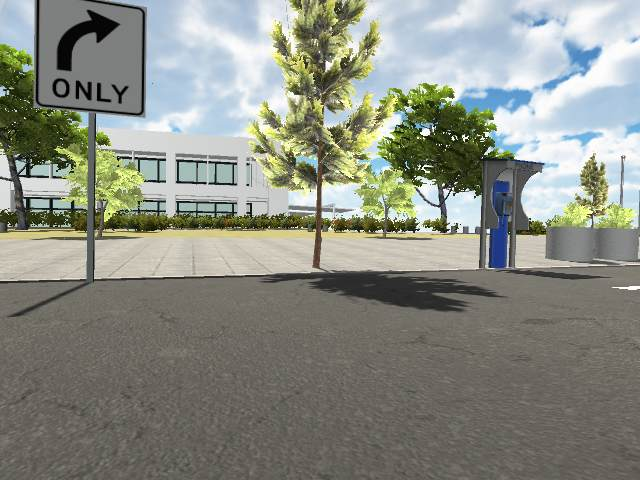arrow_right: (53, 6, 124, 75)
